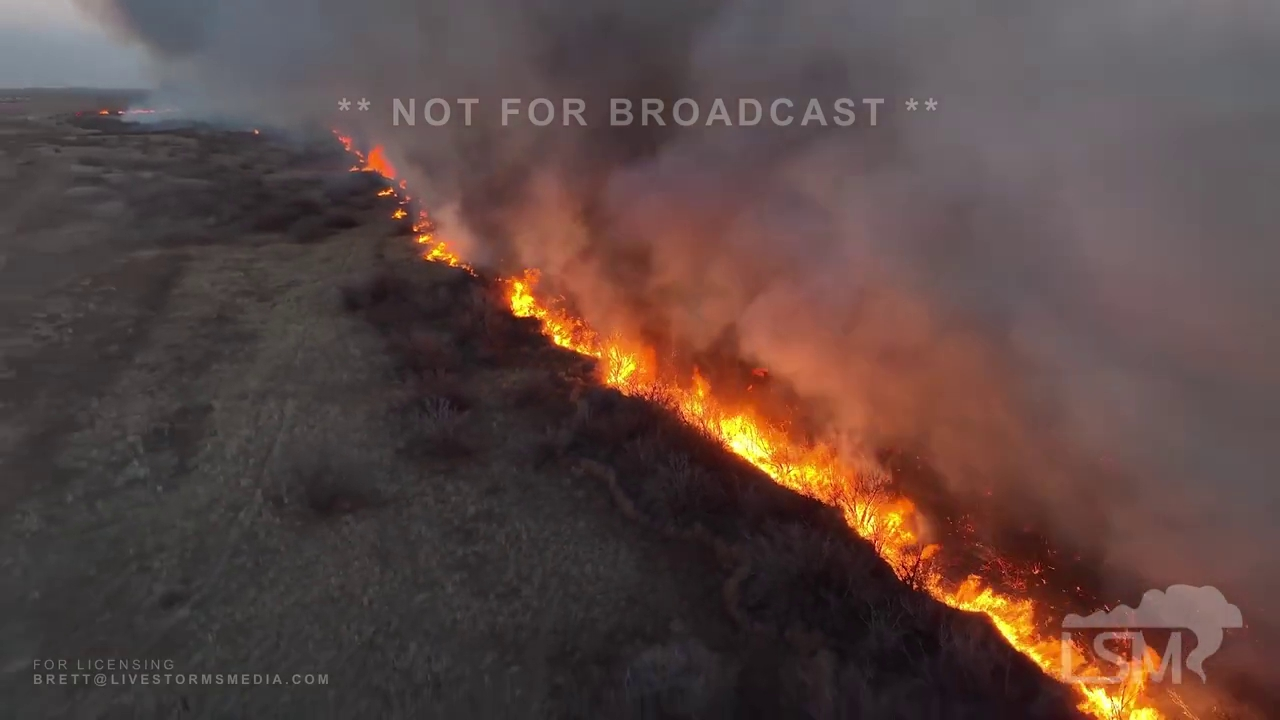forest_fire: (500, 270, 1166, 719), (338, 134, 410, 218), (413, 211, 474, 273)
